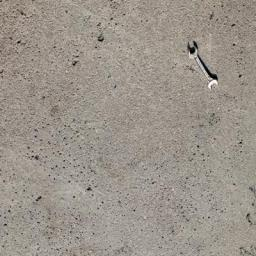FOD: (185, 39, 223, 92)
